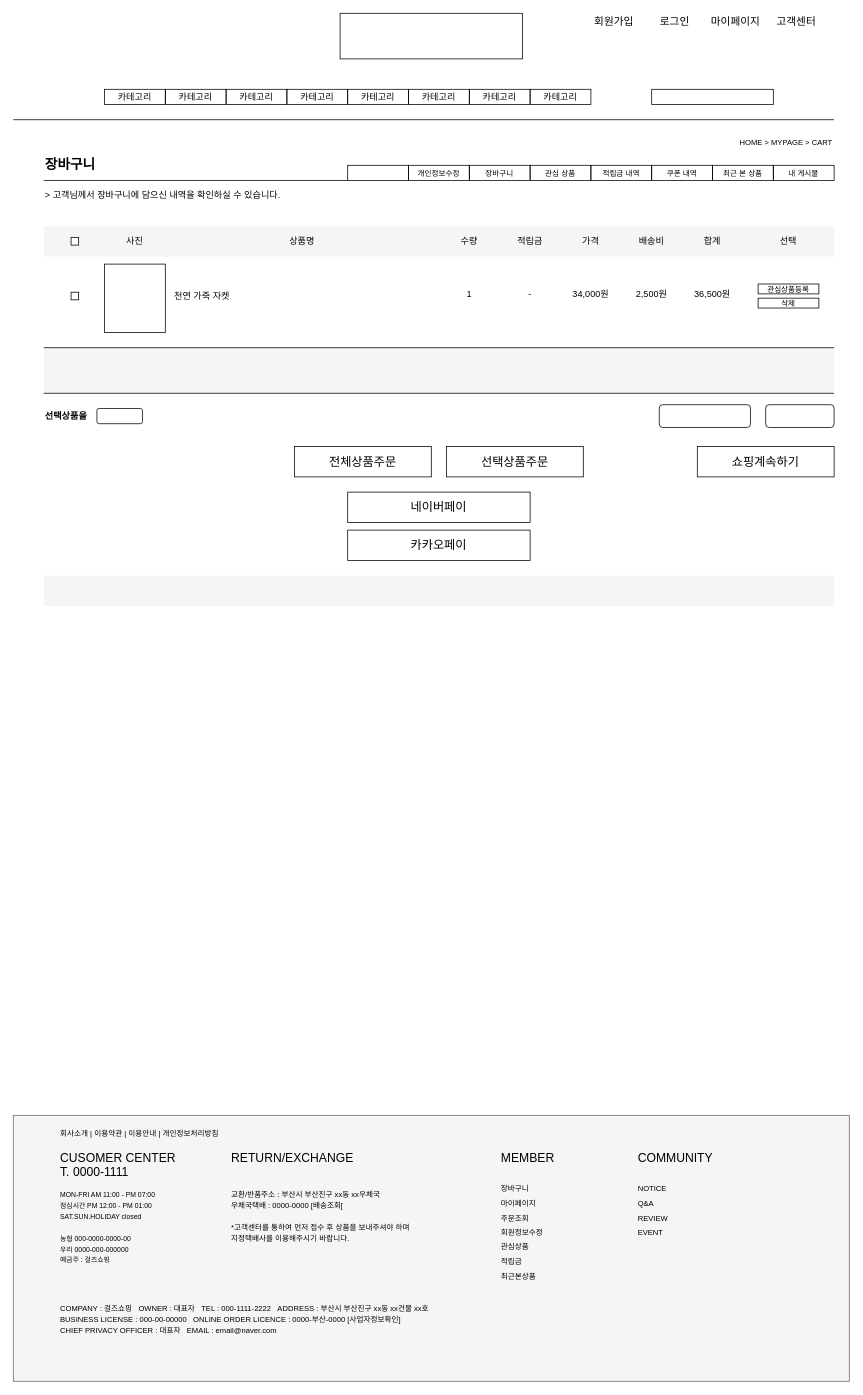
Some shapes in this 863 by 1395 pixel diagram are drawn without their labels. The box of each missing label's shape, as (x1, y1, x2, y2) in pixels:
LOGO: (339, 13, 522, 59)
검색창: (651, 89, 773, 104)
견적서 출력: (765, 404, 834, 428)
구매내역: (347, 165, 408, 180)
삭제하기: (96, 408, 142, 424)
상품구매금액 34,000 원 + 배송비 2,500 원 = 합계 : 36,500원: (43, 347, 834, 393)
이용안내: (43, 575, 834, 606)
장바구니 비우기: (659, 404, 750, 428)
